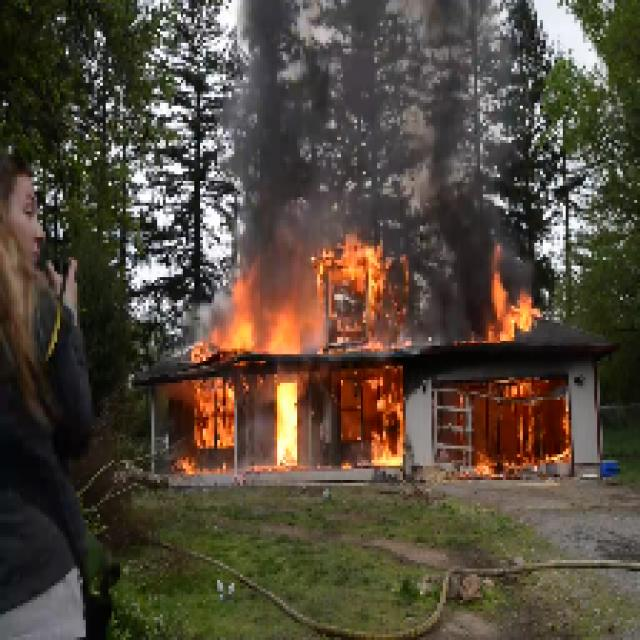smoke: (204, 320, 299, 461)
